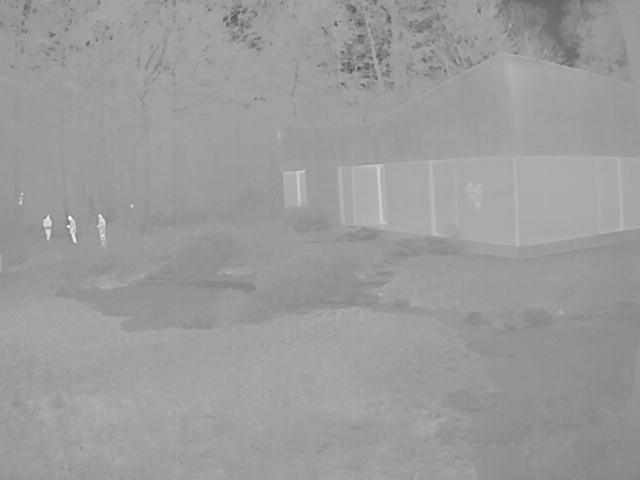person: (97, 214, 110, 245), (67, 214, 80, 244), (42, 214, 54, 240), (475, 182, 487, 204), (469, 181, 476, 200)
